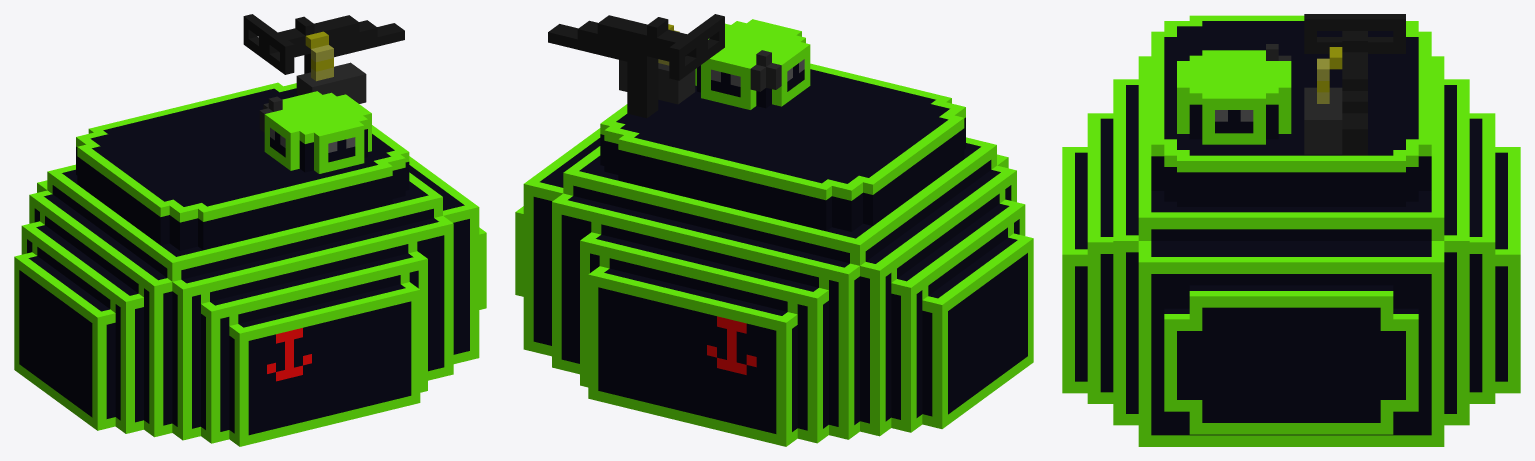
File: TankPlayerMediumNeon-1.obj
The picture shows the model from 3 angles, left to right: view 1: azimuth 30°, elevation 25°; view 2: azimuth 150°, elevation 25°; view 3: azimuth 270°, elevation 25°; orthographic projection. The views are drawn at different scales.
Size of the model in its own units: 4.2 by 3.1 by 3.6.
Materials: 1 (1 with a texture image).
